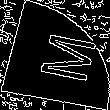M_W: (19, 26, 91, 84)
